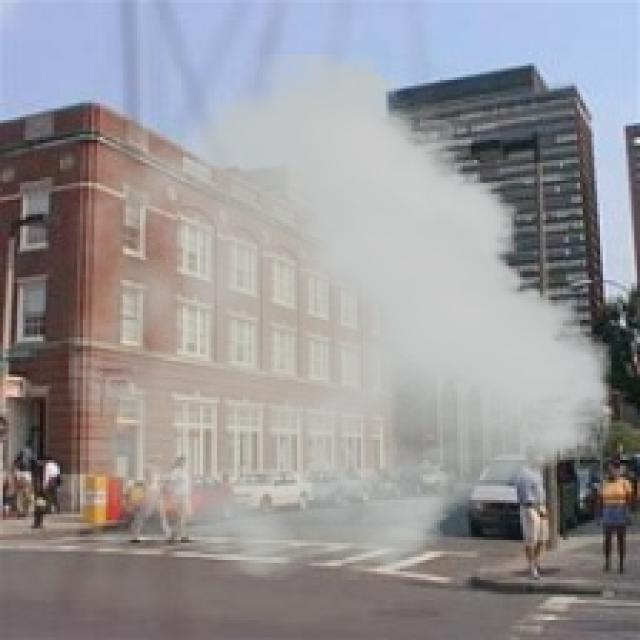Smoke: (69, 54, 612, 580)
